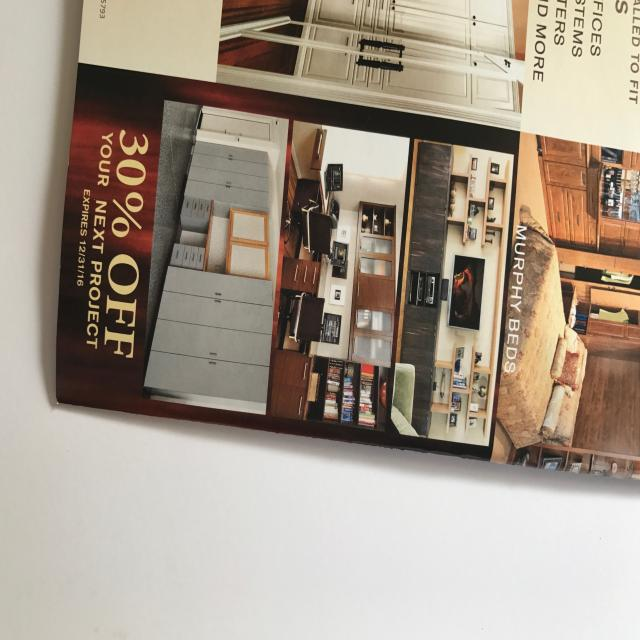paper: (45, 0, 640, 498)
